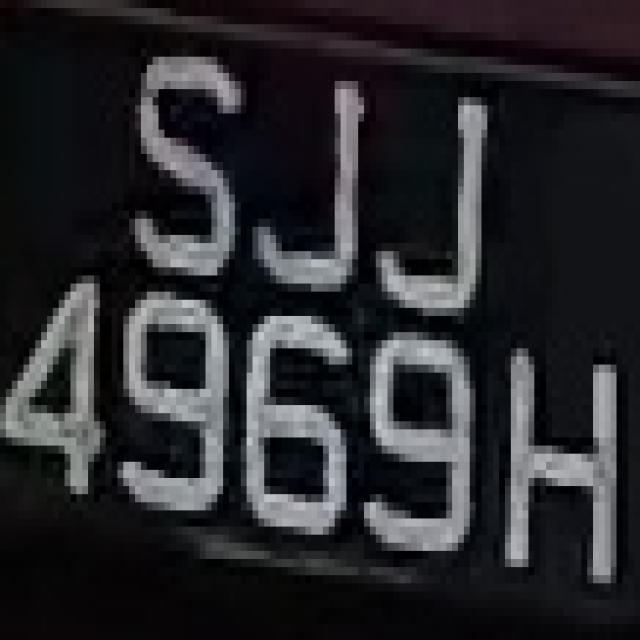4: (0, 251, 106, 535)
6: (235, 275, 352, 543)
9: (358, 292, 482, 583), (117, 267, 241, 535)
H: (499, 300, 628, 608)
J: (364, 41, 493, 324), (235, 65, 382, 300)
S: (117, 8, 235, 300)
